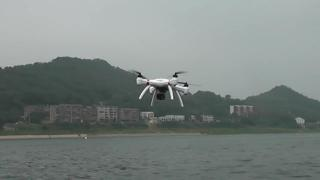UAV: (129, 70, 201, 108)
